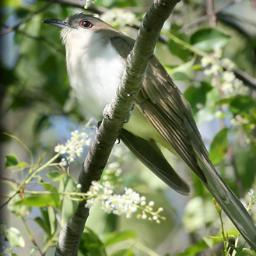Cuckoo: (41, 10, 256, 256)
